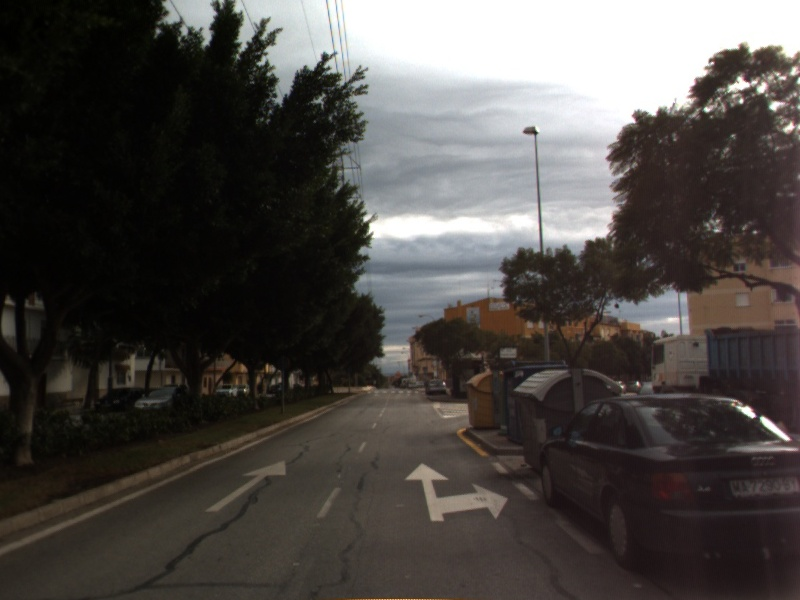STRAIGHT: (203, 457, 288, 514)
STRAIGHT_RIGHT: (402, 460, 511, 524)
